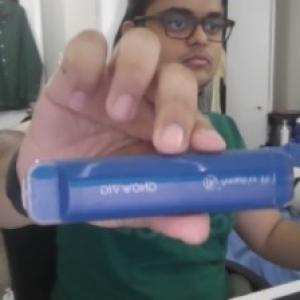Diamond-E-Ciggirate: (17, 144, 297, 231)
